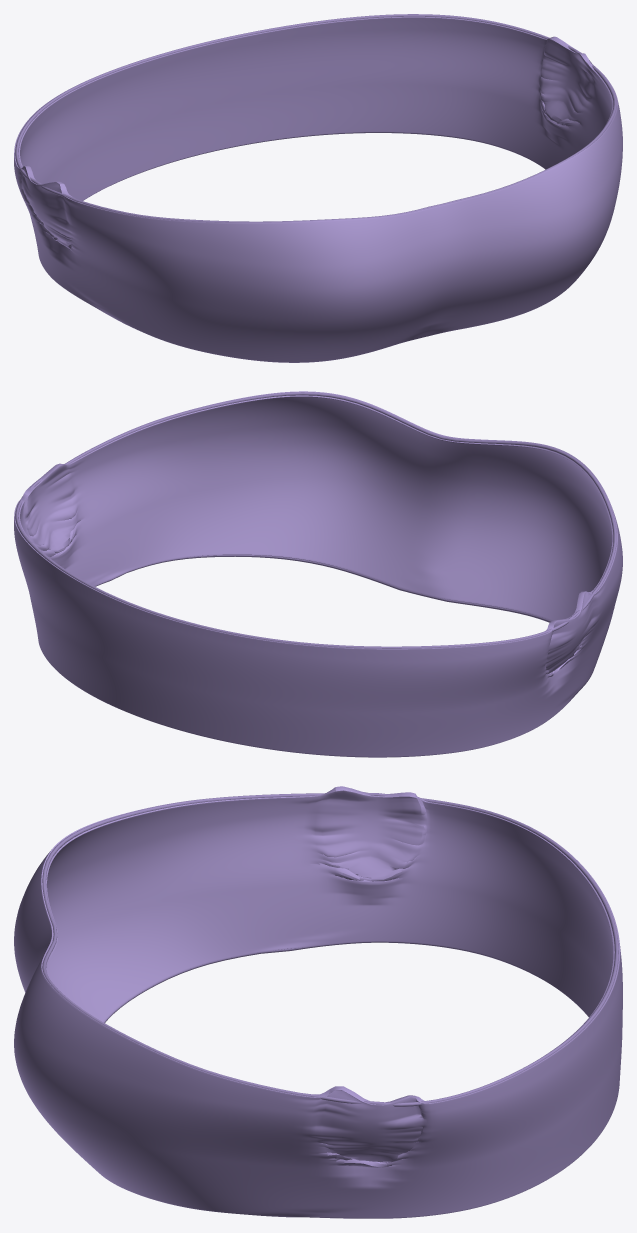
The model's file is Feminine-bandeau-top.glb.
The picture shows the model from 3 angles, top to bottom: view 1: azimuth 30°, elevation 25°; view 2: azimuth 150°, elevation 25°; view 3: azimuth 270°, elevation 25°; orthographic projection. The views are drawn at different scales.
Parts seen in each view (by area): view 1: Clothing / Bandeau, Bandeau / bound edge.001 export, Bandeau / bound edge export; view 2: Clothing / Bandeau, Bandeau / bound edge.001 export, Bandeau / bound edge export; view 3: Clothing / Bandeau, Bandeau / bound edge.001 export, Bandeau / bound edge export.
Boxes of the visible parts, left/top/right/bottom form: Clothing / Bandeau: left=14, top=16, right=622, bottom=362; Bandeau / bound edge.001 export: left=15, top=14, right=616, bottom=222; Bandeau / bound edge export: left=111, top=132, right=538, bottom=185; Clothing / Bandeau: left=14, top=391, right=622, bottom=757; Bandeau / bound edge.001 export: left=15, top=392, right=616, bottom=648; Bandeau / bound edge export: left=95, top=555, right=551, bottom=757; Clothing / Bandeau: left=14, top=786, right=622, bottom=1218; Bandeau / bound edge.001 export: left=42, top=792, right=618, bottom=1106; Bandeau / bound edge export: left=104, top=941, right=542, bottom=1218.
Bounding box in the file's own units: 0.6455 × 0.1812 × 0.5334.
